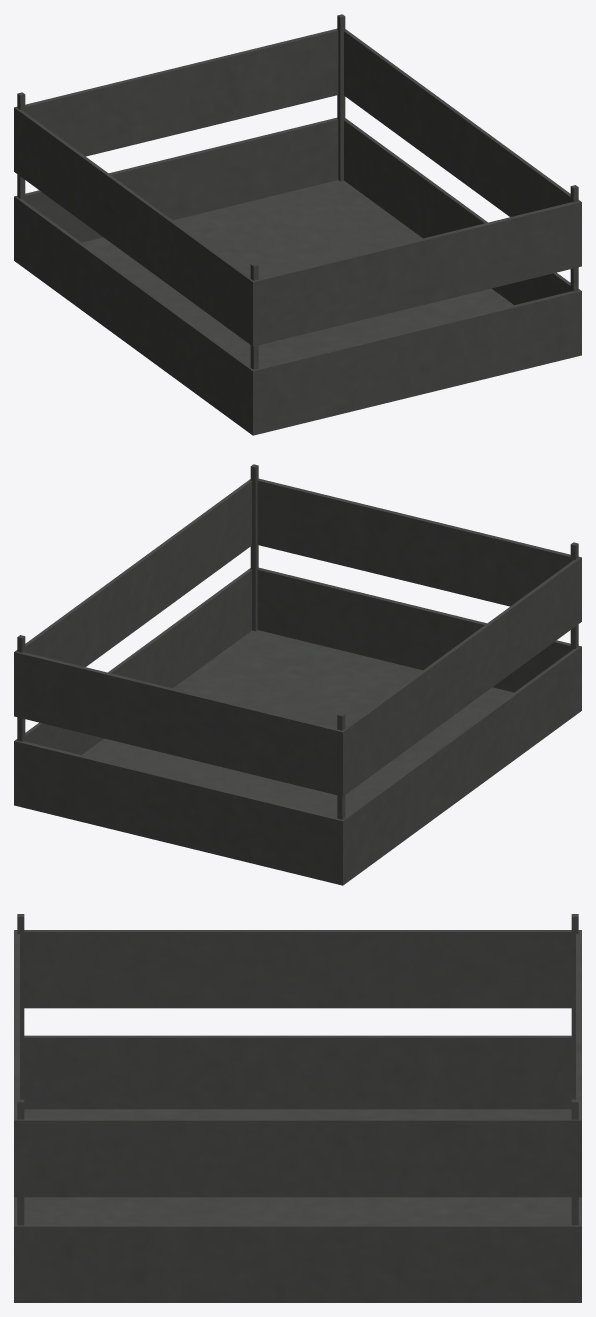
Rendered from Paper holder 1.fbx.
3 views of the same model, one above another, from view 1: azimuth 30°, elevation 25°; view 2: azimuth 150°, elevation 25°; view 3: azimuth 270°, elevation 25° (orthographic). The views are drawn at different scales.
Parts seen in each view (by area): view 1: Paper_holder_1; view 2: Paper_holder_1; view 3: Paper_holder_1.
Boxes of the visible parts, bbox=[...] form: Paper_holder_1: bbox=[14, 14, 581, 435]; Paper_holder_1: bbox=[14, 464, 581, 885]; Paper_holder_1: bbox=[14, 914, 581, 1302].
Bounding box in the file's own units: 0.1115 × 0.0543 × 0.1403.
